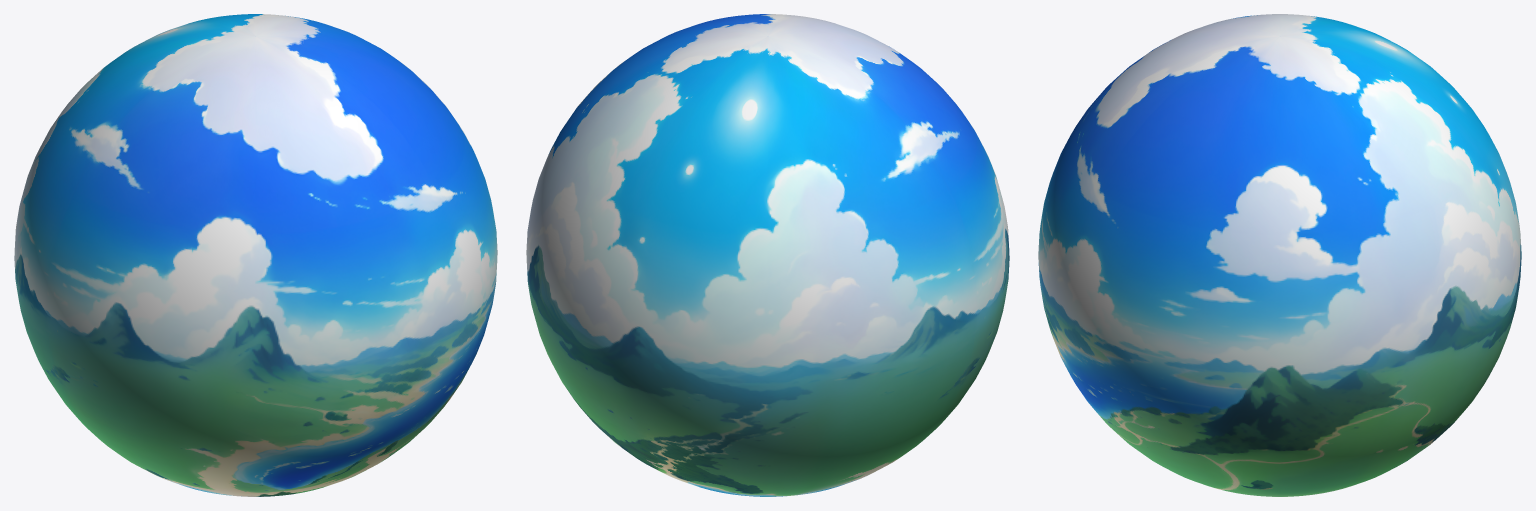
Rendered from sky.obj.
The picture shows the model from 3 angles, left to right: view 1: azimuth 30°, elevation 25°; view 2: azimuth 150°, elevation 25°; view 3: azimuth 270°, elevation 25°; orthographic projection.
Visible parts, largest first — view 1: Sphere; view 2: Sphere; view 3: Sphere.
Boxes of the visible parts, box(x1,y1,x2,y2) form: Sphere: box(14, 14, 497, 496); Sphere: box(526, 14, 1009, 496); Sphere: box(1038, 14, 1521, 496).
Size of the model in its own units: 1000 by 1000 by 1000.
1 material, 1 textured.
